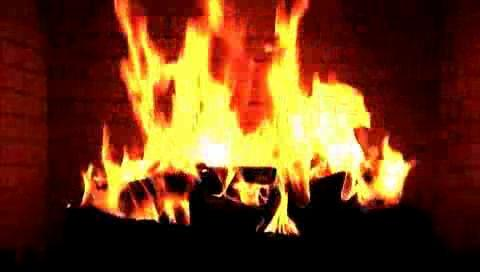fire: (85, 0, 480, 231)
